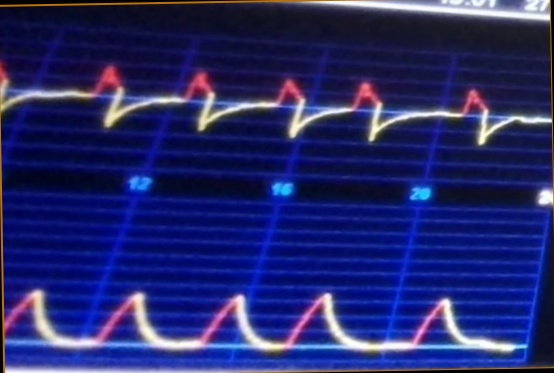Accumulation Flow: (1, 45, 547, 163)
Volume: (4, 255, 511, 360)
